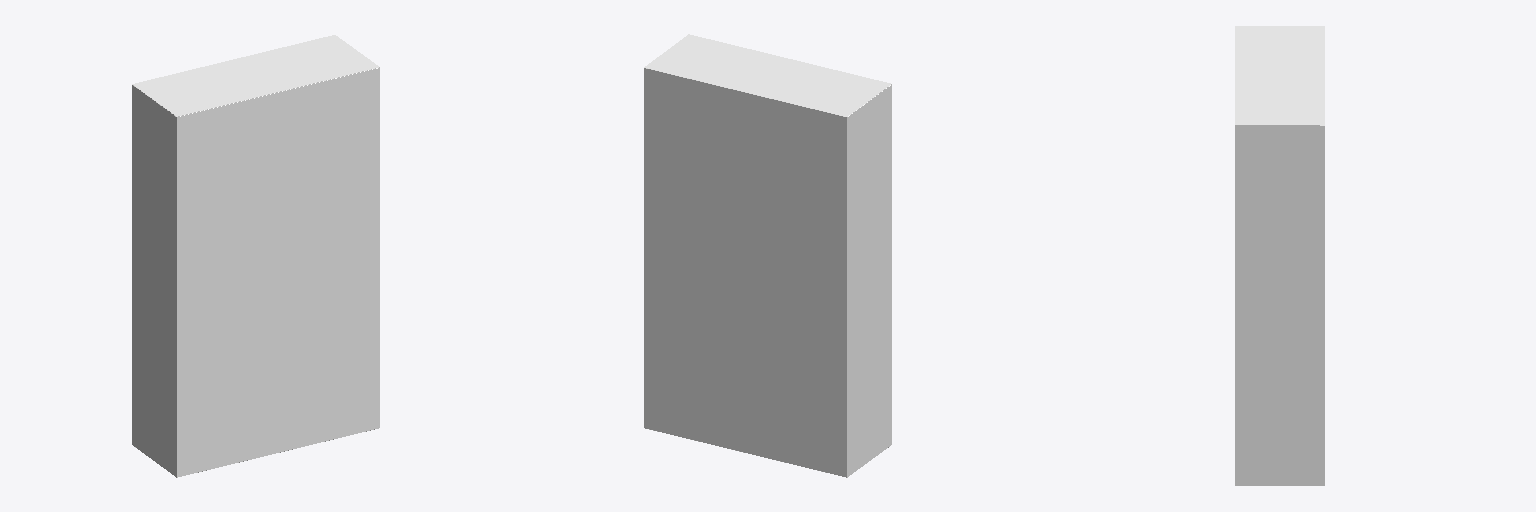
Rendered from Shreddies.obj.
The picture shows the model from 3 angles: view 1: azimuth 30°, elevation 25°; view 2: azimuth 150°, elevation 25°; view 3: azimuth 270°, elevation 25°; orthographic projection.
Parts seen in each view (by area): view 1: pasta_1; view 2: pasta_1; view 3: pasta_1.
Boxes of the visible parts, <box> form: pasta_1: <box>132,35,379,477</box>; pasta_1: <box>644,34,891,477</box>; pasta_1: <box>1235,26,1324,485</box>.
Bounding box in the file's own units: 13 × 22.03 × 5.